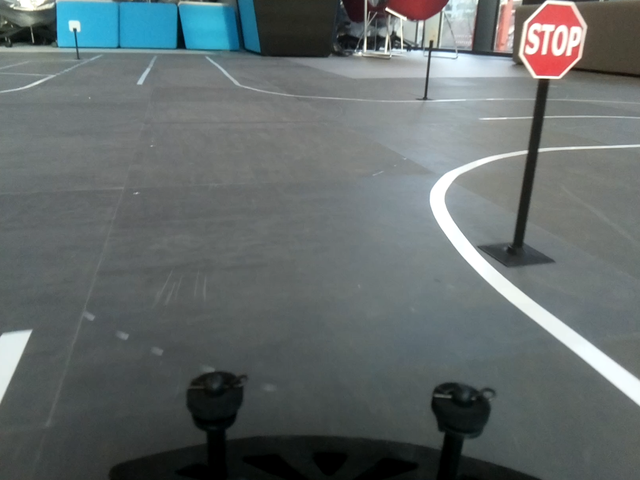stop: (518, 1, 588, 81)
